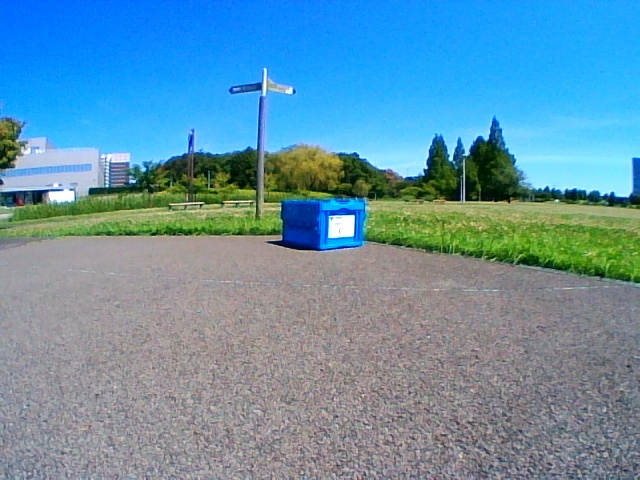blue_box: (283, 200, 361, 245)
tag: (331, 215, 353, 236)
